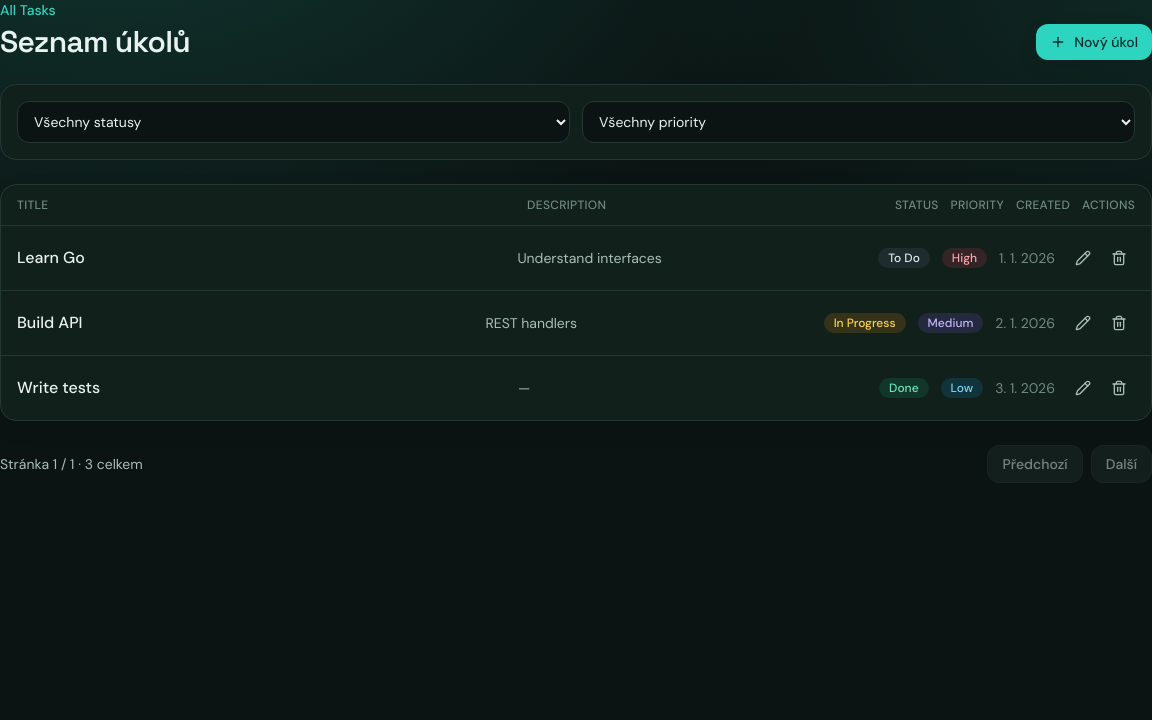
Scenario: TasksPage › validates empty title
Expected: the text "Learn Go" is shown, [17,247,85,268]
Click the button "Nový úkol" at (1094, 42), box [1036,24,1151,60]
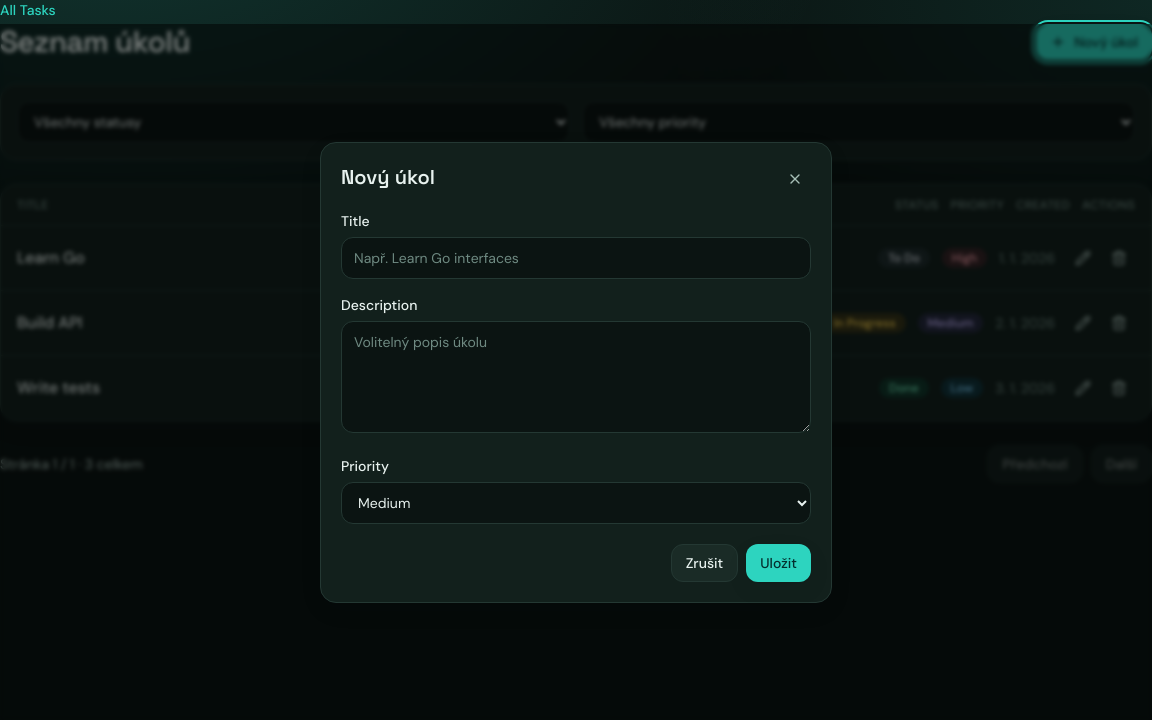
Clear the field labelled "Title" at (576, 258), box [341,236,811,278]
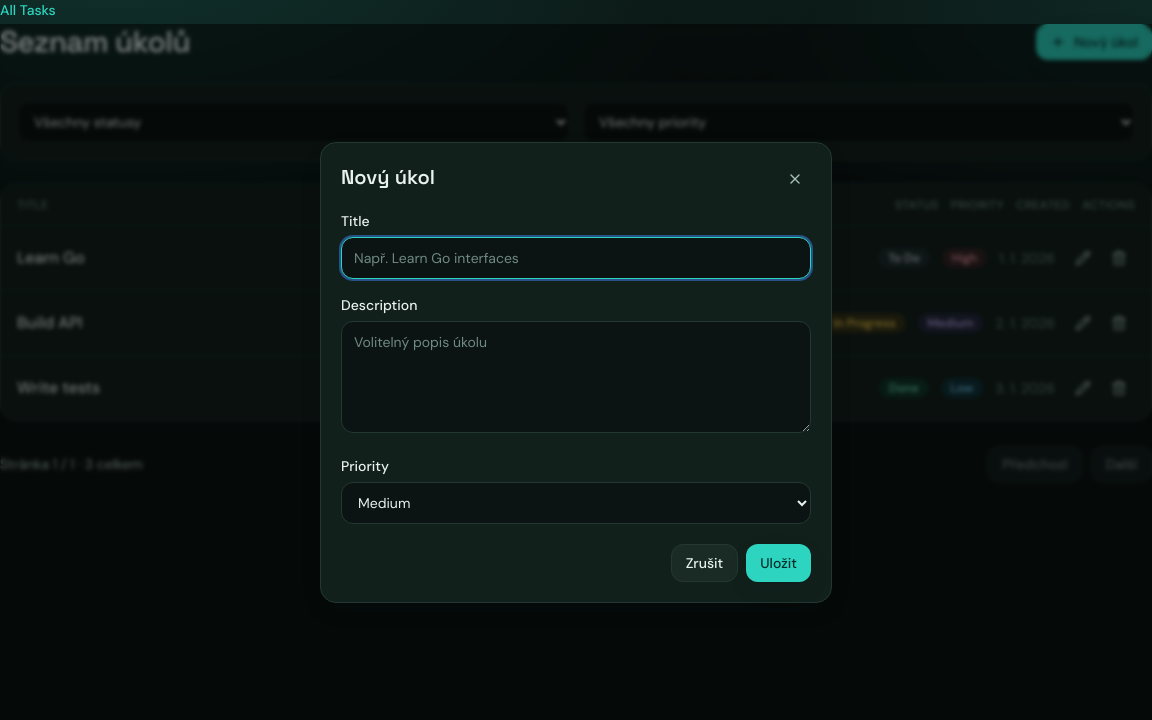
Click the button "Uložit" at (779, 562), box [746,544,811,582]
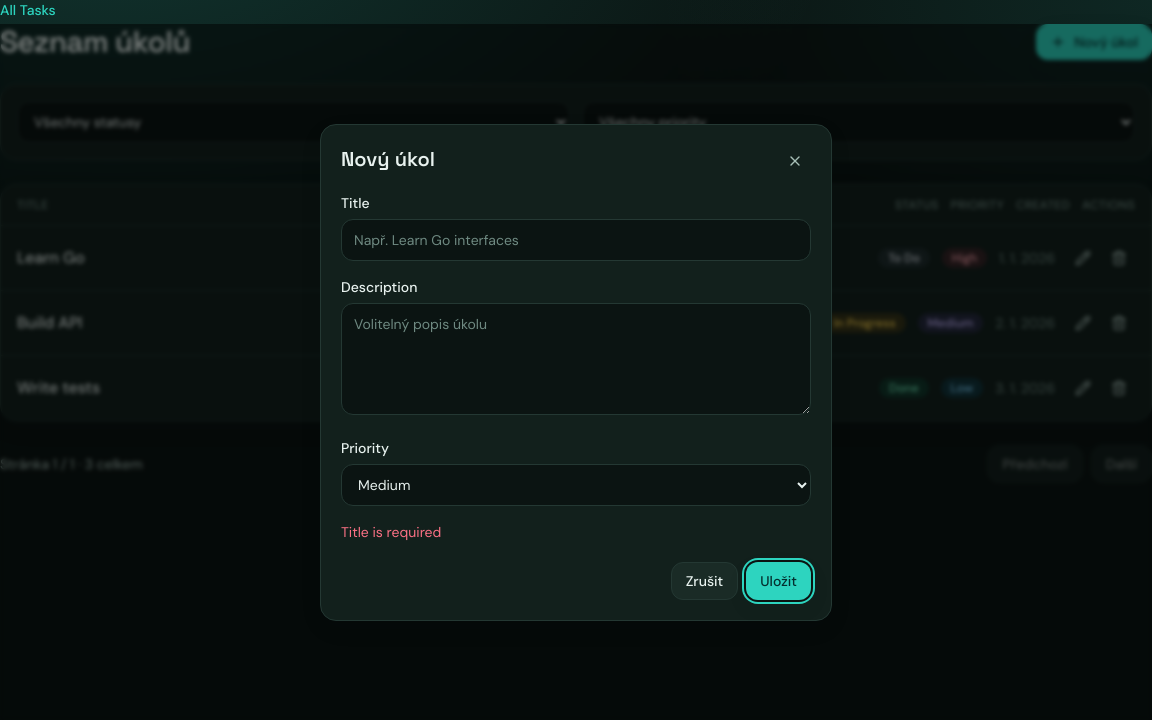
Result: the text "Title is required" is shown at [341,522,441,540]
